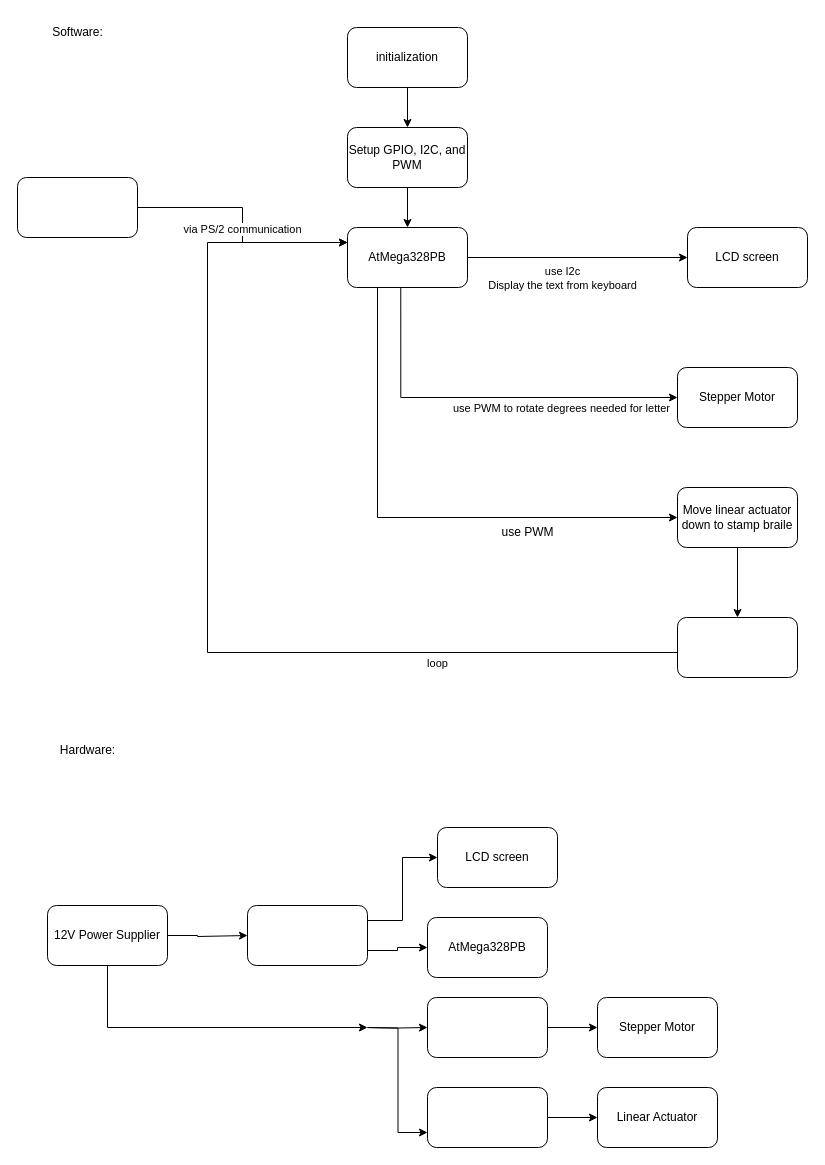
Some shapes in this 825 by 1165 pixel diagram are drawn without their labels. Each missing label, with the centre of its shape:
Buck converter: (307,935)
keyboard: (77,207)
Linear Actuator Driver: (487,1117)
Move linear actuator up: (737,647)
Stepper Motor Driver: (487,1027)
